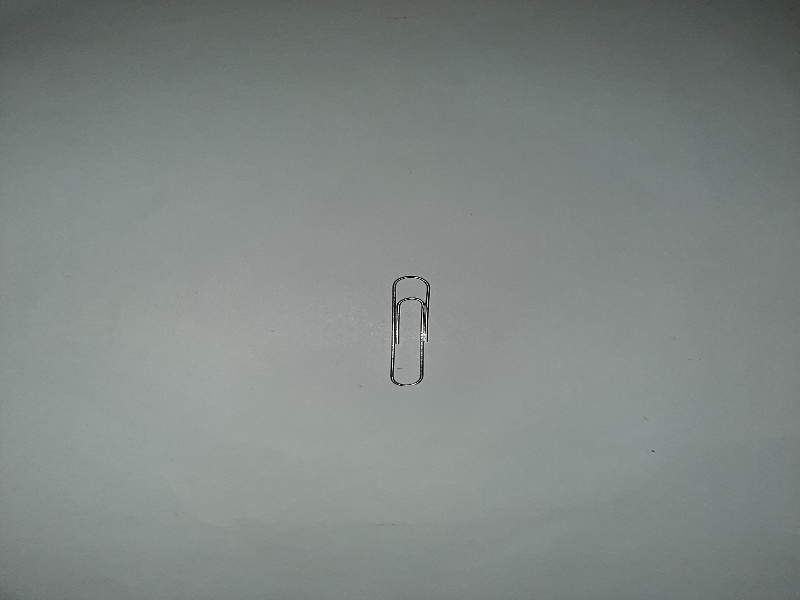Big Jumpclip: (380, 263, 436, 394)
